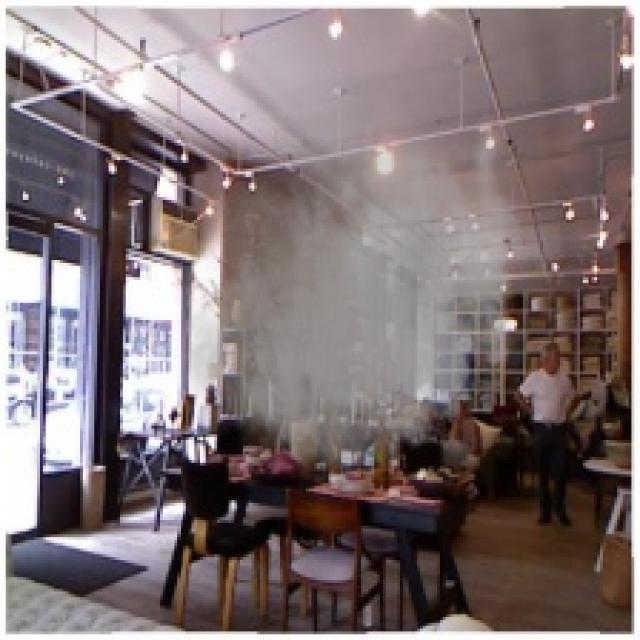Smoke: (172, 102, 537, 494)
